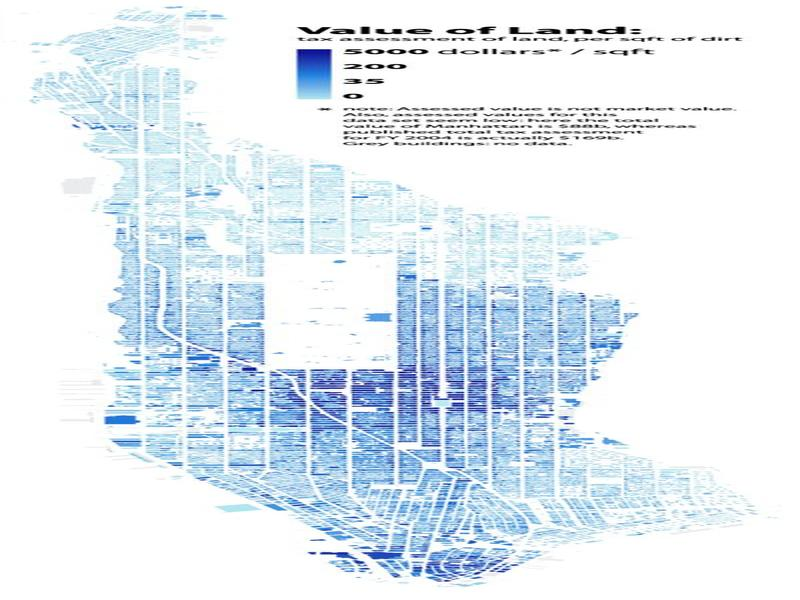legend: (293, 23, 744, 101)
